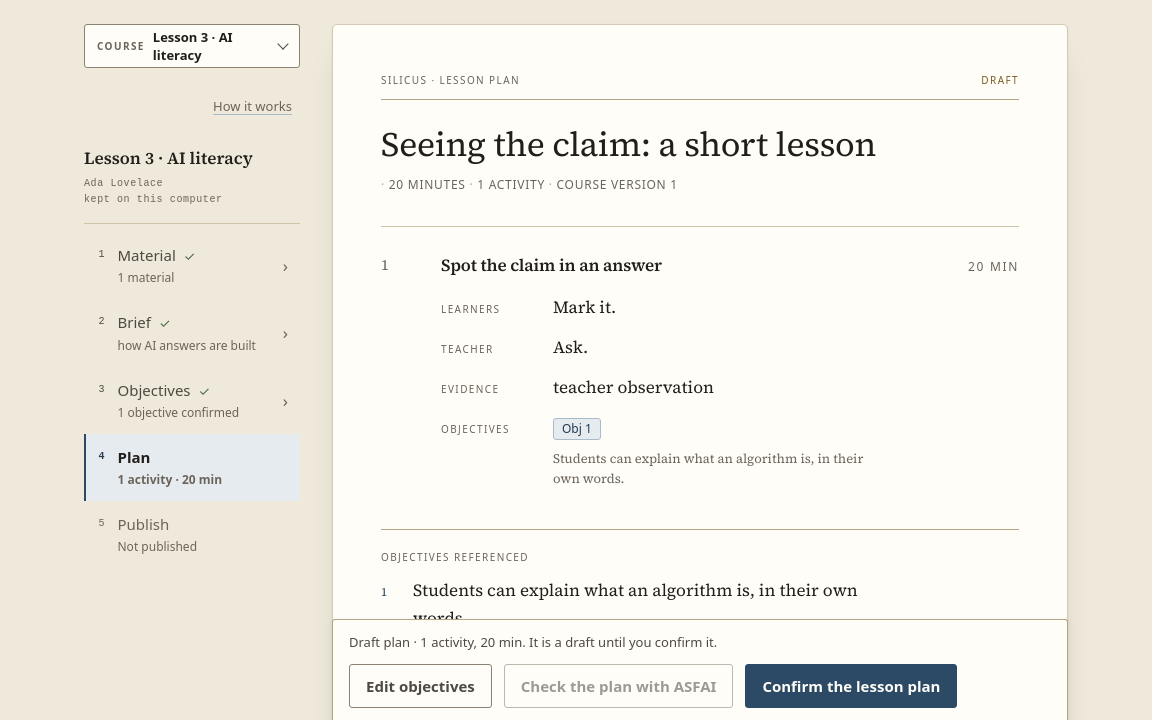
Test case: the workspace: edit any stage without hunting for it › edit objectives from the plan, and back: two clicks, one primary each time, the plan as it was
Expected: the heading "Seeing the claim: a short lesson" is shown, [381, 124, 925, 164]
Click the button "Edit objectives" at (420, 686), box [349, 664, 492, 708]
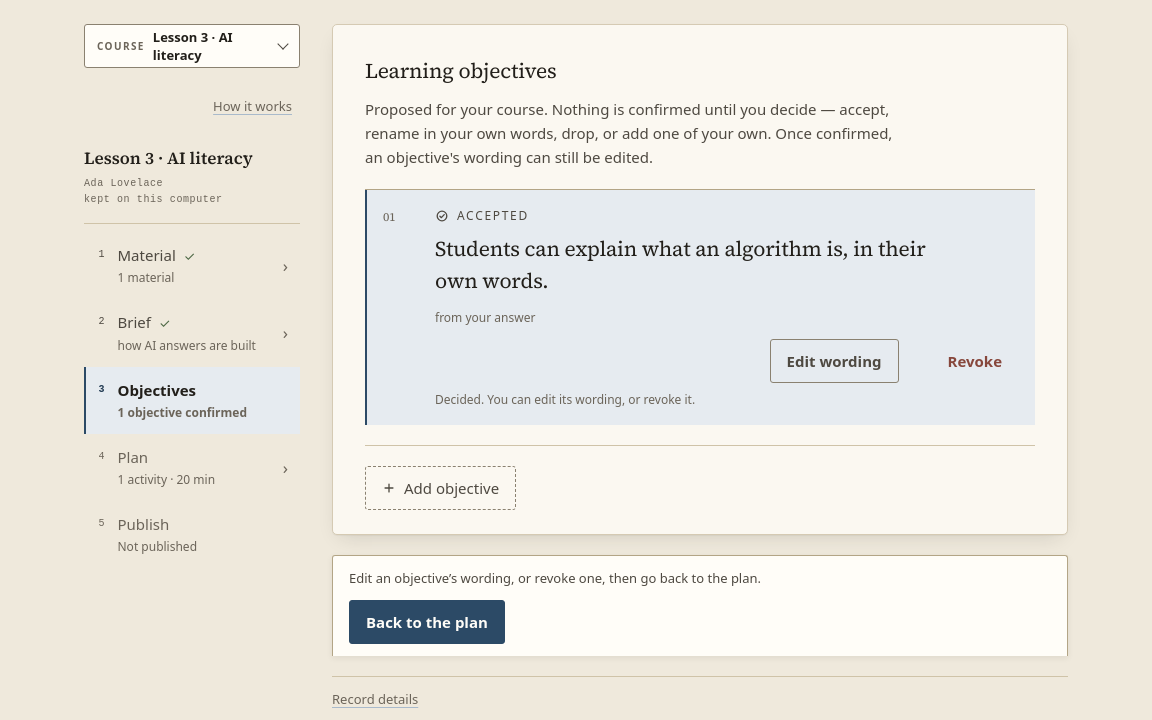
Result: the heading "Learning objectives" is shown at [365, 56, 557, 85]
Result: the heading "Seeing the claim: a short lesson" is gone
Result: the button "Edit wording" is shown at [770, 339, 898, 383]
Click the button "Back to the plan" at (427, 622), box [349, 600, 505, 644]
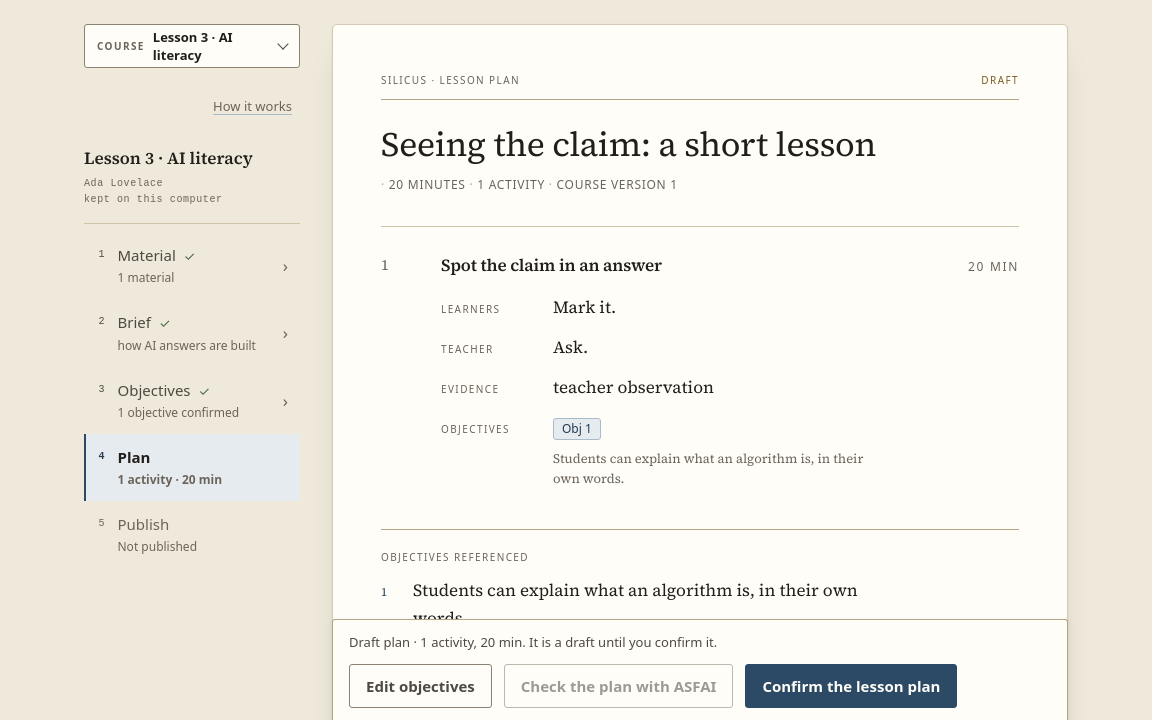
Result: the heading "Seeing the claim: a short lesson" is shown at [381, 124, 925, 164]
Result: the button "Confirm the lesson plan" is shown at [745, 664, 957, 708]
